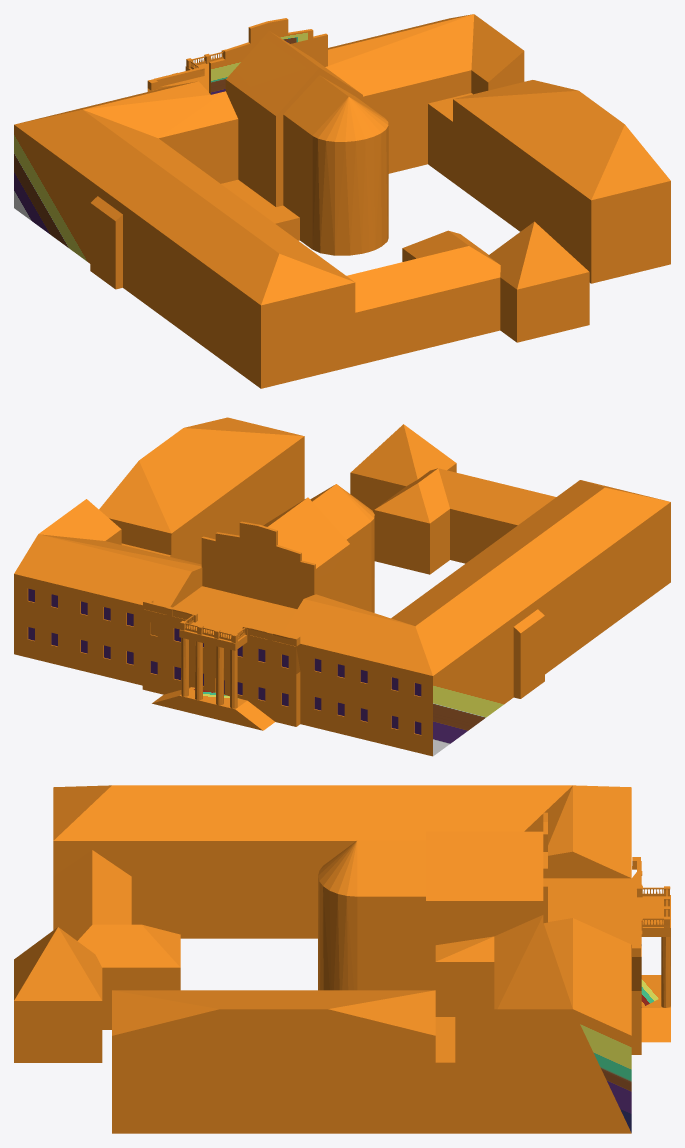
File: Muzeum Malczewskiego.obj
3 views of the same model, one above another, from view 1: azimuth 30°, elevation 25°; view 2: azimuth 150°, elevation 25°; view 3: azimuth 270°, elevation 25° (orthographic). The views are drawn at different scales.
Visible parts, largest first — view 1: Muzueum_głó_obj_0; view 2: Muzueum_głó_obj_0; view 3: Muzueum_głó_obj_0.
Part boxes in pixels (x1,y1,x2,y2): Muzueum_głó_obj_0: [14, 14, 670, 388]; Muzueum_głó_obj_0: [14, 417, 670, 756]; Muzueum_głó_obj_0: [14, 785, 670, 1133].
Bounding box in the file's own units: 38.8 × 13.41 × 42.61.
